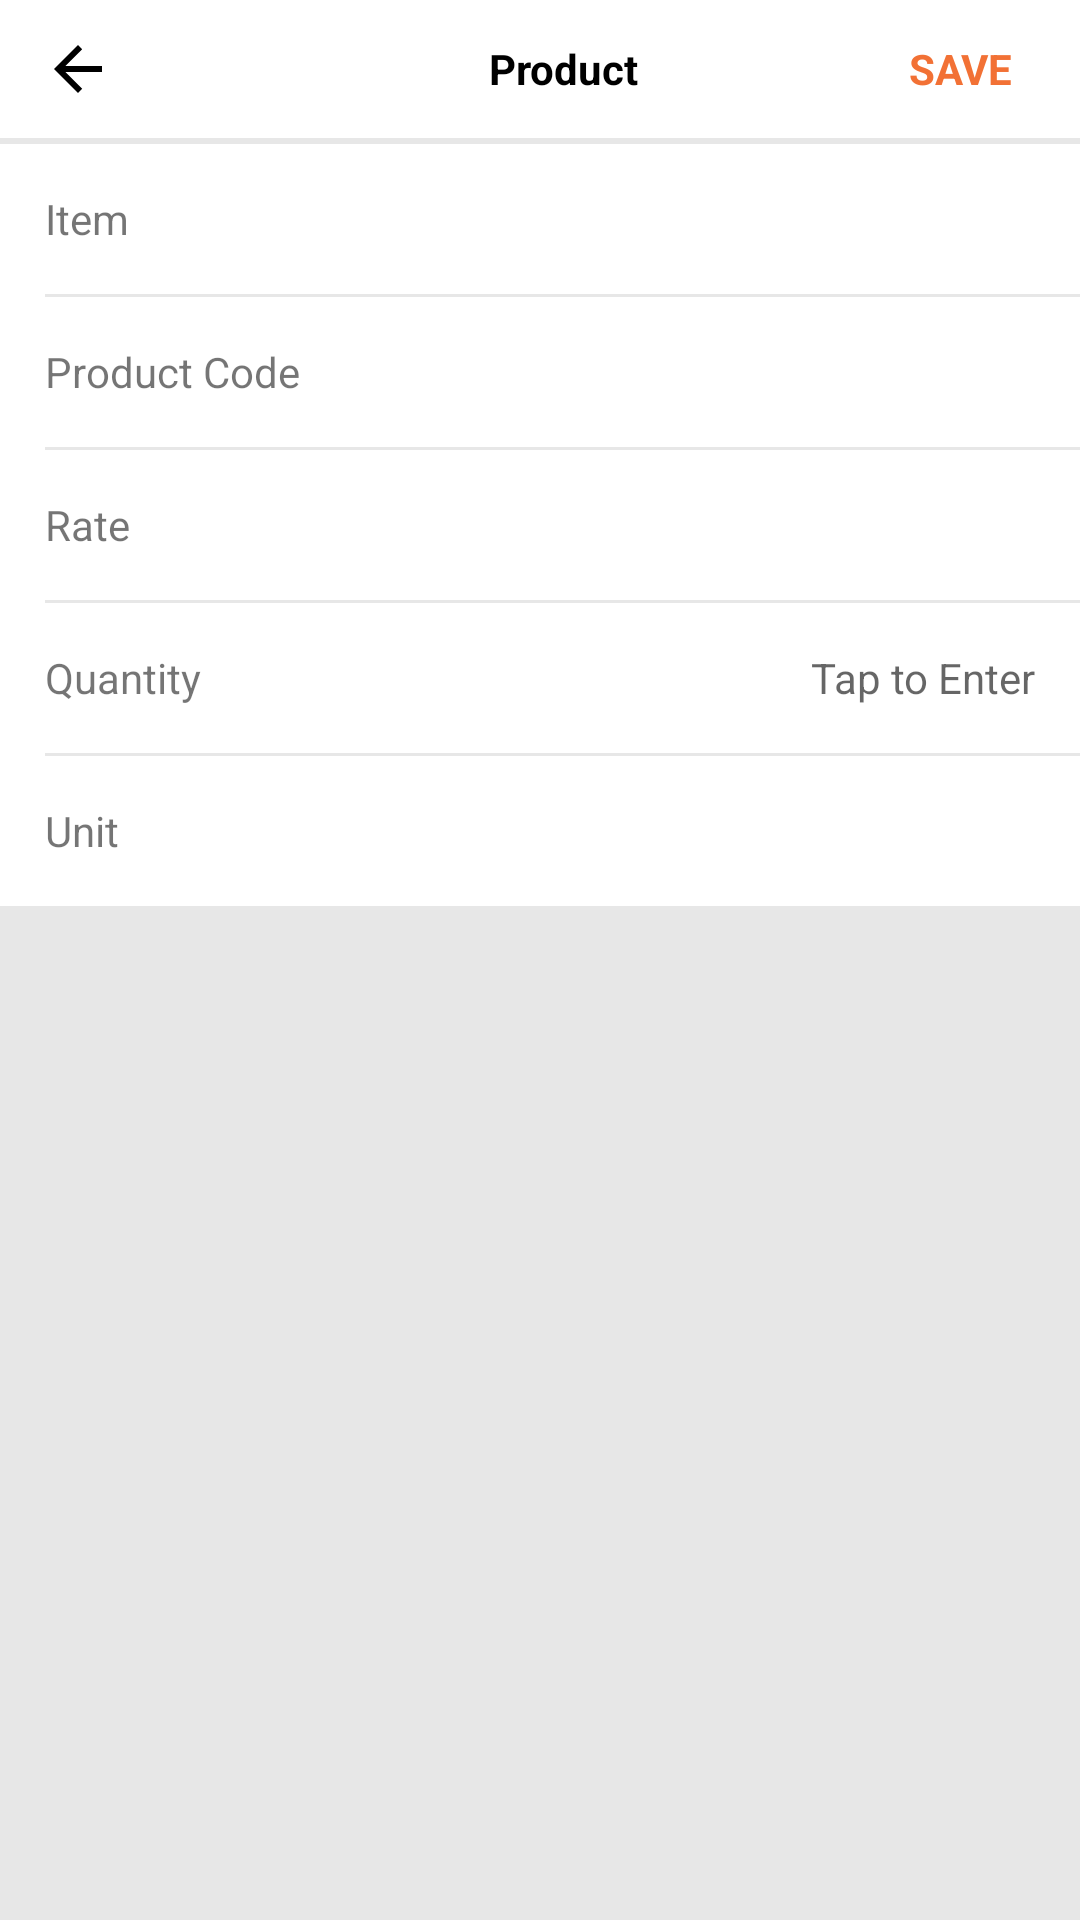

Point at icon controls on the screen. Image size 1080px×1920px, points as (x=x, y=y).
backarrow: (x=78, y=69)
